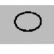no answer: (12, 10, 43, 32)
